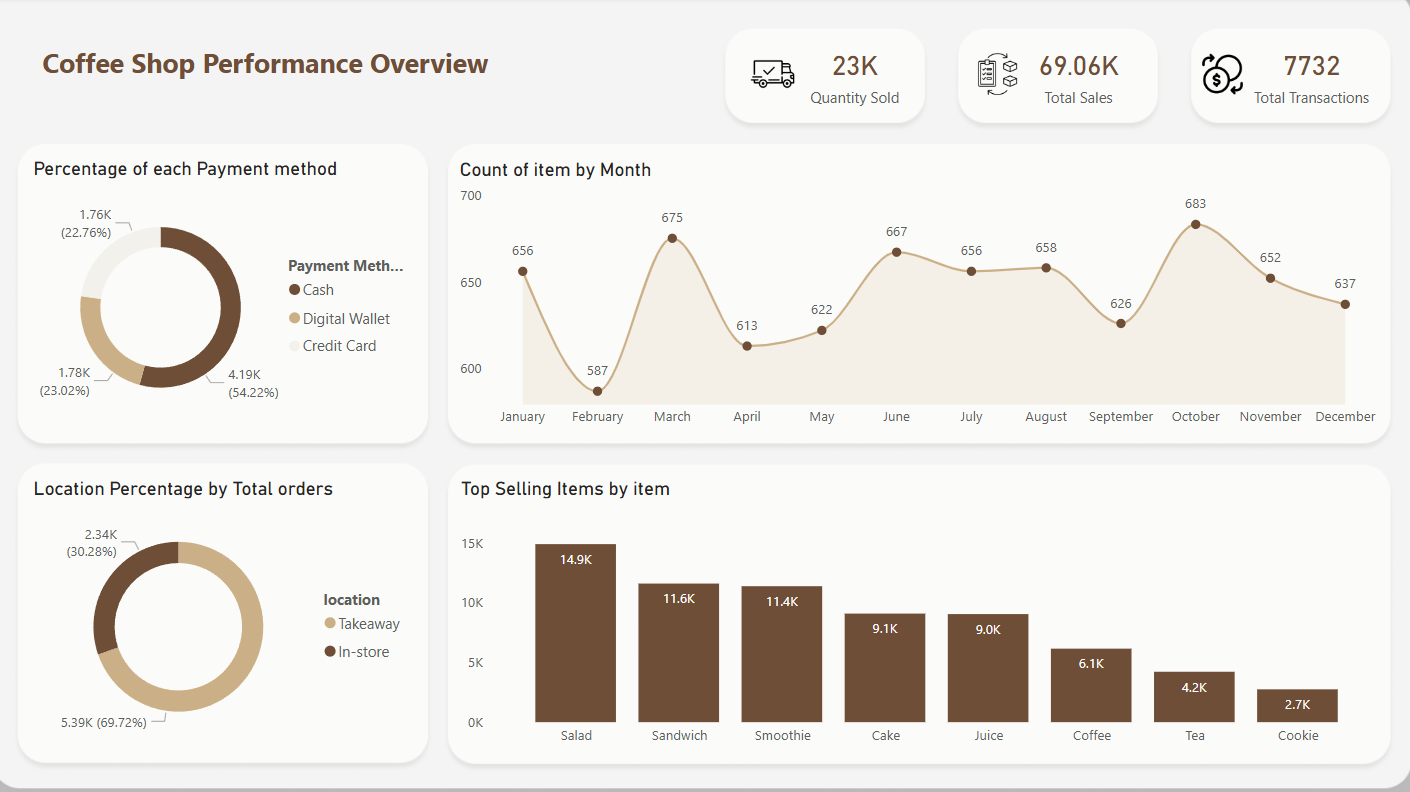

The page's visual inventory and layout, read from the dashboard file:
{"tool":"powerbi","page":{"name":"Page 1","canvas":[1280,720],"ordinal":0},"visuals":[{"type":"columnChart","fields":{"Category":["cleaned_coffee_sales.item"],"Y":["Sum(cleaned_coffee_sales.total_spent)"]},"box":[416.7,432.9,839.7,251.3],"z":0},{"type":"lineChart","fields":{"Category":["cleaned_coffee_sales.transaction_date.Variation.Date Hierarchy.Month"],"Y":["CountNonNull(cleaned_coffee_sales.item)"]},"box":[415.5,145.5,839.7,251.3],"z":1000},{"type":"donutChart","title":"Percentage of each Payment method","fields":{"Category":["cleaned_coffee_sales.payment_method"],"Y":["CountNonNull(cleaned_coffee_sales.transaction_id)"]},"box":[31.1,144.3,349.6,252.5],"z":2000},{"type":"donutChart","title":"Location Percentage by Total orders","fields":{"Y":["CountNonNull(cleaned_coffee_sales.transaction_id)"],"Category":["cleaned_coffee_sales.location"]},"box":[31.1,432.9,349.6,251.3],"z":3000},{"type":"card","fields":{"Values":["Sum(cleaned_coffee_sales.total_spent)"]},"box":[893.3,27,170.6,85.9],"z":4000},{"type":"card","fields":{"Values":["Sum(cleaned_coffee_sales.quantity)"]},"box":[692,27,170.6,85.9],"z":5000},{"type":"card","fields":{"Values":["CountNonNull(cleaned_coffee_sales.transaction_id)"]},"box":[1099.4,27,180.4,85.9],"z":6000},{"type":"textbox","box":[39.8,38.4,455.6,48],"z":7000},{"type":"image","box":[1084.7,45.4,49.1,49.1],"z":8000},{"type":"image","box":[678.5,45.4,49.1,49.1],"z":9000},{"type":"image","box":[881,45.4,49.1,49.1],"z":10000}]}

Visuals, with their boxes in screenshot pixels (x1, y1, x2, y2), scaled from the page's 1280x720 canvas onto the 1410x792 screenshot:
columnChart - cleaned_coffee_sales.item x Sum(cleaned_coffee_sales.total_spent): [459,476,1384,753]
lineChart - cleaned_coffee_sales.transaction_date.Variation.Date Hierarchy.Month x CountNonNull(cleaned_coffee_sales.item): [458,160,1383,436]
"Percentage of each Payment method" donutChart: [34,159,419,436]
"Location Percentage by Total orders" donutChart: [34,476,419,753]
card - Sum(cleaned_coffee_sales.total_spent): [984,30,1172,124]
card - Sum(cleaned_coffee_sales.quantity): [762,30,950,124]
card - CountNonNull(cleaned_coffee_sales.transaction_id): [1211,30,1409,124]
textbox: [44,42,546,95]
image: [1195,50,1249,104]
image: [747,50,801,104]
image: [970,50,1025,104]
